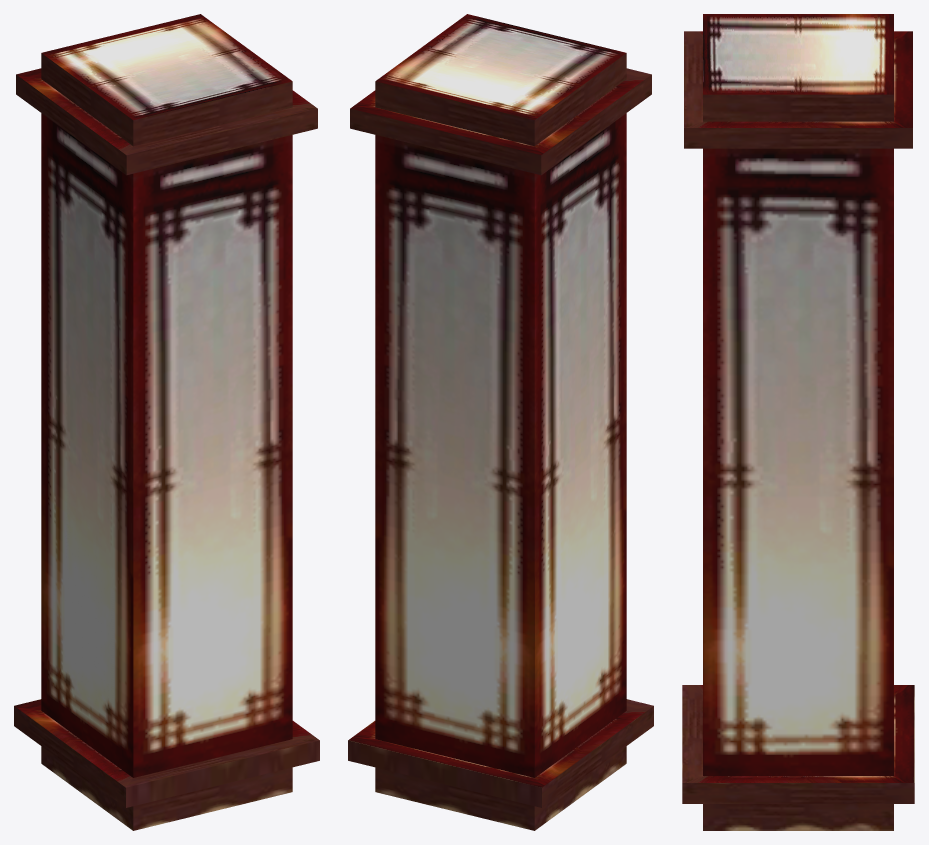
Rendered from it_floor_light.fbx.
3 renders of one model, left to right at view 1: azimuth 30°, elevation 25°; view 2: azimuth 150°, elevation 25°; view 3: azimuth 270°, elevation 25°, orthographic. The views are drawn at different scales.
Parts seen in each view (by area): view 1: mesh_0; view 2: mesh_0; view 3: mesh_0.
Boxes of the visible parts, x1,y1,x2,y2 form: mesh_0: (14,14,319,830); mesh_0: (348,14,653,830); mesh_0: (682,14,914,830).
Size of the model in its own units: 36.5 by 128 by 36.5.
1 material, 1 textured.
